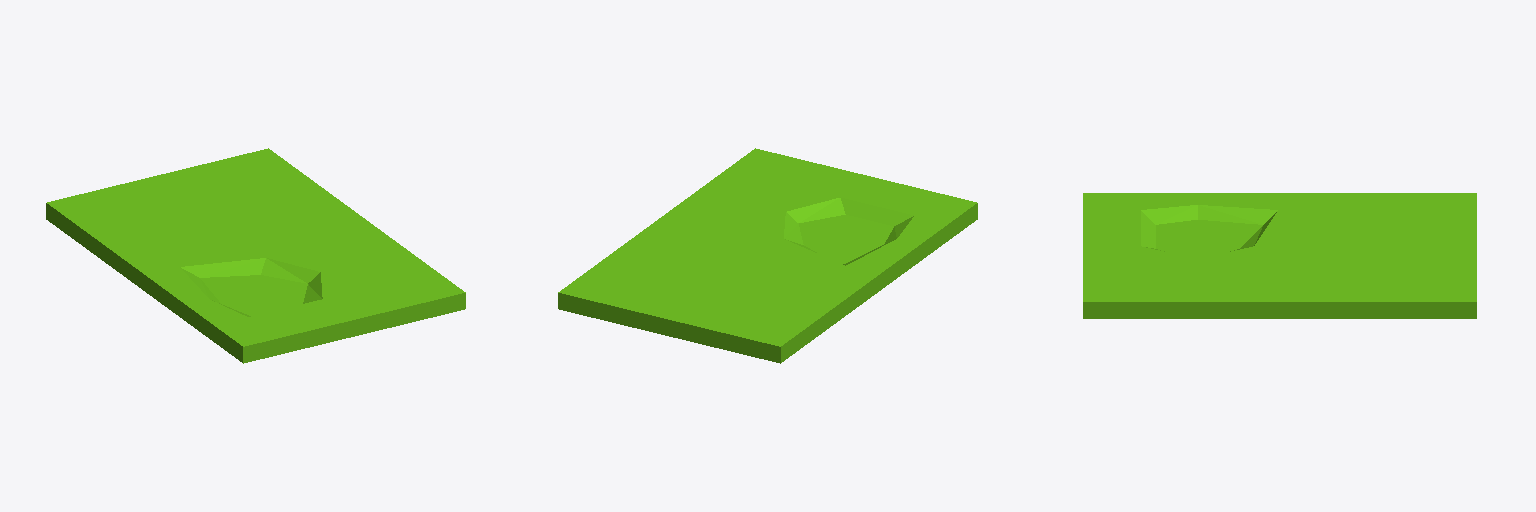
Rendered from ground.obj.
3 renders of one model, left to right at view 1: azimuth 30°, elevation 25°; view 2: azimuth 150°, elevation 25°; view 3: azimuth 270°, elevation 25°, orthographic.
Parts seen in each view (by area): view 1: Cube; view 2: Cube; view 3: Cube.
Part boxes in pixels (x1,y1,x2,y2): Cube: (46,148,465,363); Cube: (558,148,977,363); Cube: (1083,193,1476,318).
Size of the model in its own units: 5.99 by 0.43 by 9.2.